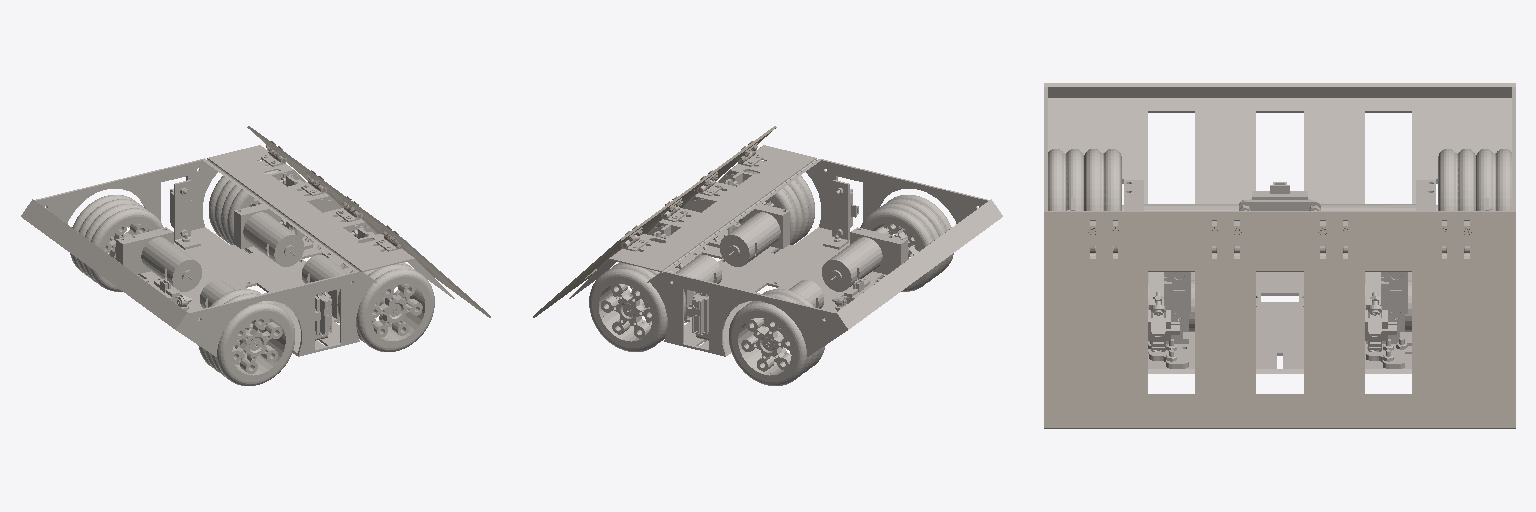
The robot description file, URDF, robot "display_arena":
<?xml version="1.0" encoding="utf-8"?>
<!-- This URDF was automatically created by SolidWorks to URDF Exporter! Originally created by [author] ([email redacted]) 
     Commit Version: 1.6.0-1-g15f4949  Build Version: 1.6.7594.29634
     For more information, please see http://wiki.ros.org/sw_urdf_exporter -->
<robot
  name="display_arena">
  <link
    name="base_link">
    <inertial>
      <origin
        xyz="0.000875493331022115 -2.98168360204655E-05 0.0230806034798212"
        rpy="0 0 0" />
      <mass
        value="2.32675204259948" />
      <inertia
        ixx="0.00789083378795565"
        ixy="1.59165336976241E-07"
        ixz="0.000733688693341605"
        iyy="0.00652488643542004"
        iyz="2.91556824422074E-07"
        izz="0.0130402502139997" />
    </inertial>
    <visual>
      <origin
        xyz="0 0 0"
        rpy="0 0 0" />
      <geometry>
        <mesh
          filename="package://display_arena/meshes/base_link.STL" />
      </geometry>
      <material
        name="">
        <color
          rgba="0.776470588235294 0.756862745098039 0.737254901960784 1" />
      </material>
    </visual>
    <collision>
      <origin
        xyz="0 0 0"
        rpy="0 0 0" />
      <geometry>
        <mesh
          filename="package://display_arena/meshes/base_link.STL" />
      </geometry>
    </collision>
  </link>
  <link
    name="RF_WheelLink">
    <inertial>
      <origin
        xyz="-1.3878E-17 1.3878E-17 0.010198"
        rpy="0 0 0" />
      <mass
        value="0.12747" />
      <inertia
        ixx="5.5576E-05"
        ixy="1.1858E-20"
        ixz="-3.446E-21"
        iyy="5.5576E-05"
        iyz="-2.8066E-20"
        izz="0.00010367" />
    </inertial>
    <visual>
      <origin
        xyz="0 0 0"
        rpy="0 0 0" />
      <geometry>
        <mesh
          filename="package://display_arena/meshes/RF_WheelLink.STL" />
      </geometry>
      <material
        name="">
        <color
          rgba="0.77647 0.75686 0.73725 1" />
      </material>
    </visual>
    <collision>
      <origin
        xyz="0 0 0"
        rpy="0 0 0" />
      <geometry>
        <mesh
          filename="package://display_arena/meshes/RF_WheelLink.STL" />
      </geometry>
    </collision>
  </link>
  <joint
    name="RF_Wheel"
    type="continuous">
    <origin
      xyz="0.066353 -0.094 0.017"
      rpy="1.5708 0.69155 0" />
    <parent
      link="base_link" />
    <child
      link="RF_WheelLink" />
    <axis
      xyz="0 0 -1" />
  </joint>
  <link
    name="RB_WheelLink">
    <inertial>
      <origin
        xyz="-0.020198 6.1583E-16 8.3267E-17"
        rpy="0 0 0" />
      <mass
        value="0.12747" />
      <inertia
        ixx="0.00010367"
        ixy="1.3226E-20"
        ixz="-2.4557E-21"
        iyy="5.5576E-05"
        iyz="2.9646E-20"
        izz="5.5576E-05" />
    </inertial>
    <visual>
      <origin
        xyz="0 0 0"
        rpy="0 0 0" />
      <geometry>
        <mesh
          filename="package://display_arena/meshes/RB_WheelLink.STL" />
      </geometry>
      <material
        name="">
        <color
          rgba="0.77647 0.75686 0.73725 1" />
      </material>
    </visual>
    <collision>
      <origin
        xyz="0 0 0"
        rpy="0 0 0" />
      <geometry>
        <mesh
          filename="package://display_arena/meshes/RB_WheelLink.STL" />
      </geometry>
    </collision>
  </link>
  <joint
    name="RB_Wheel"
    type="continuous">
    <origin
      xyz="-0.063645 -0.084 0.017"
      rpy="1.6466 0 1.5708" />
    <parent
      link="base_link" />
    <child
      link="RB_WheelLink" />
    <axis
      xyz="1 0 0" />
  </joint>
  <link
    name="LF_WheelLink">
    <inertial>
      <origin
        xyz="-0.020198 4.3576E-15 6.0923E-15"
        rpy="0 0 0" />
      <mass
        value="0.12747" />
      <inertia
        ixx="0.00010367"
        ixy="1.8681E-20"
        ixz="1.5159E-20"
        iyy="5.5576E-05"
        iyz="-6.0986E-20"
        izz="5.5576E-05" />
    </inertial>
    <visual>
      <origin
        xyz="0 0 0"
        rpy="0 0 0" />
      <geometry>
        <mesh
          filename="package://display_arena/meshes/LF_WheelLink.STL" />
      </geometry>
      <material
        name="">
        <color
          rgba="0.77647 0.75686 0.73725 1" />
      </material>
    </visual>
    <collision>
      <origin
        xyz="0 0 0"
        rpy="0 0 0" />
      <geometry>
        <mesh
          filename="package://display_arena/meshes/LF_WheelLink.STL" />
      </geometry>
    </collision>
  </link>
  <joint
    name="LF_Wheel"
    type="continuous">
    <origin
      xyz="0.066353 0.084 0.017"
      rpy="0.75862 0 -1.5708" />
    <parent
      link="base_link" />
    <child
      link="LF_WheelLink" />
    <axis
      xyz="1 0 0" />
  </joint>
  <link
    name="LB_WheelLink">
    <inertial>
      <origin
        xyz="0 2.7756E-17 -0.0098022"
        rpy="0 0 0" />
      <mass
        value="0.12747" />
      <inertia
        ixx="5.5576E-05"
        ixy="1.3553E-20"
        ixz="-1.8379E-21"
        iyy="5.5576E-05"
        iyz="-1.187E-20"
        izz="0.00010367" />
    </inertial>
    <visual>
      <origin
        xyz="0 0 0"
        rpy="0 0 0" />
      <geometry>
        <mesh
          filename="package://display_arena/meshes/LB_WheelLink.STL" />
      </geometry>
      <material
        name="">
        <color
          rgba="0.77647 0.75686 0.73725 1" />
      </material>
    </visual>
    <collision>
      <origin
        xyz="0 0 0"
        rpy="0 0 0" />
      <geometry>
        <mesh
          filename="package://display_arena/meshes/LB_WheelLink.STL" />
      </geometry>
    </collision>
  </link>
  <joint
    name="LB_Wheel"
    type="continuous">
    <origin
      xyz="-0.063645 0.114 0.017"
      rpy="1.5708 0.23741 -3.1416" />
    <parent
      link="base_link" />
    <child
      link="LB_WheelLink" />
    <axis
      xyz="0 0 -1" />
  </joint>
  <link
    name="Baffle_Link">
    <inertial>
      <origin
        xyz="0.085624 0.074282 0.00094888"
        rpy="0 0 0" />
      <mass
        value="0.39851" />
      <inertia
        ixx="0.00052226"
        ixy="-2.2179E-14"
        ixz="-5.6936E-15"
        iyy="0.0022735"
        iyz="-7.0203E-09"
        izz="0.0027954" />
    </inertial>
    <visual>
      <origin
        xyz="0 0 0"
        rpy="0 0 0" />
      <geometry>
        <mesh
          filename="package://display_arena/meshes/Baffle_Link.STL" />
      </geometry>
      <material
        name="">
        <color
          rgba="0.64706 0.61961 0.58824 1" />
      </material>
    </visual>
    <collision>
      <origin
        xyz="0 0 0"
        rpy="0 0 0" />
      <geometry>
        <mesh
          filename="package://display_arena/meshes/Baffle_Link.STL" />
      </geometry>
    </collision>
  </link>
  <joint
    name="Baffle"
    type="revolute">
    <origin
      xyz="0.15948 -0.085582 -0.016614"
      rpy="0.82235 0 1.5708" />
    <parent
      link="base_link" />
    <child
      link="Baffle_Link" />
    <axis
      xyz="-1 0 0" />
    <limit
      lower="-0.2"
      upper="1"
      effort="0"
      velocity="0" />
  </joint>
</robot>

--- Facts derived from the render (not from the file) ---
Views: 3 orthographic renders of the robot side by side, from view 1: azimuth 30°, elevation 25°; view 2: azimuth 150°, elevation 25°; view 3: azimuth 270°, elevation 25°.
Robot: display_arena — 6 links, 5 joints (1 revolute, 4 continuous); root link base_link; default pose: all joints at 0.
Links seen in each view (by area): view 1: base_link, RB_WheelLink, RF_WheelLink, LB_WheelLink, Baffle_Link, LF_WheelLink; view 2: base_link, LB_WheelLink, LF_WheelLink, RB_WheelLink, Baffle_Link, RF_WheelLink; view 3: Baffle_Link, base_link, RB_WheelLink, LB_WheelLink.
Link boxes in pixels (x1,y1,x2,y2): base_link: (21,145,454,356); RB_WheelLink: (198,289,294,385); RF_WheelLink: (337,262,434,351); LB_WheelLink: (70,195,163,291); Baffle_Link: (247,126,490,317); LF_WheelLink: (209,161,293,253); base_link: (569,145,1002,356); LB_WheelLink: (729,289,825,385); LF_WheelLink: (589,262,686,351); RB_WheelLink: (860,195,953,291); Baffle_Link: (533,126,776,317); RF_WheelLink: (744,161,814,253); Baffle_Link: (1044,212,1515,428); base_link: (1044,83,1515,373); RB_WheelLink: (1048,149,1121,210); LB_WheelLink: (1438,149,1511,210).
Bounding box of the posed robot: 0.2944 × 0.25 × 0.1009 m (x, y, z).
6 mesh visuals loaded from 6 distinct referenced files (6 binary STL).